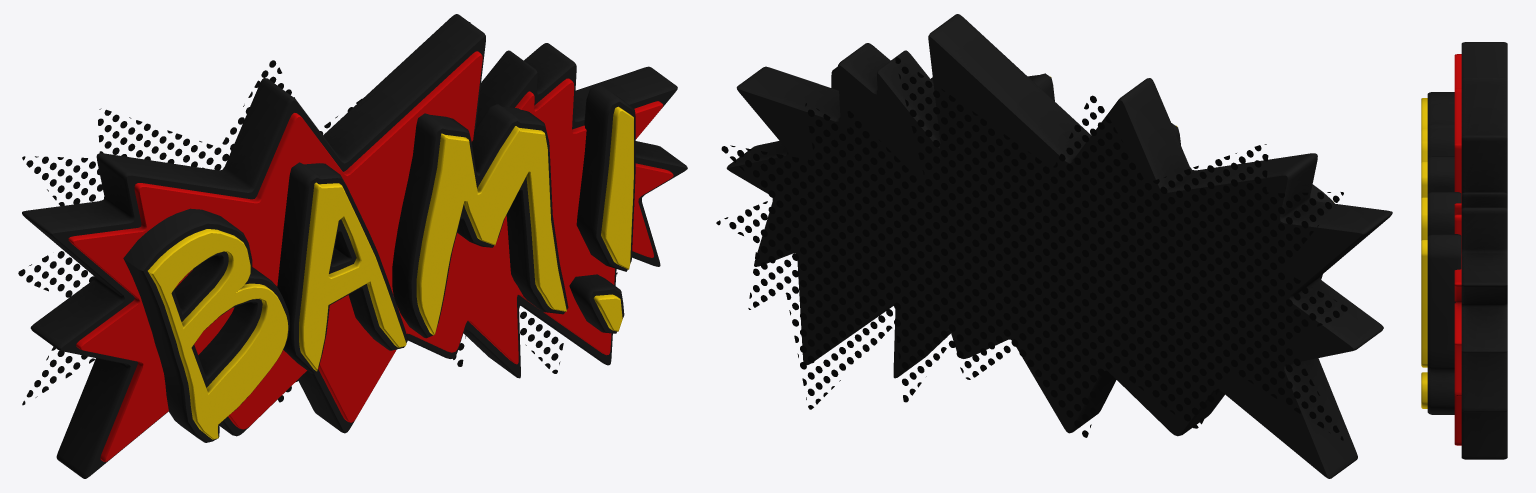
File: BAM!.glb
3 views of the same model, side by side, from view 1: azimuth 30°, elevation 25°; view 2: azimuth 150°, elevation 25°; view 3: azimuth 270°, elevation 25° (orthographic). The views are drawn at different scales.
Parts seen in each view (by area): view 1: BAM_Vinyl_01.1, Halftone_Alpha001.2; view 2: BAM_Vinyl_01.1, Halftone_Alpha001.2; view 3: BAM_Vinyl_01.1.
Part boxes in pixels (x1,y1,x2,y2): BAM_Vinyl_01.1: (22, 14, 687, 478); Halftone_Alpha001.2: (18, 22, 617, 405); BAM_Vinyl_01.1: (726, 14, 1392, 478); Halftone_Alpha001.2: (716, 57, 1347, 440); BAM_Vinyl_01.1: (1421, 42, 1507, 459).
Size of the model in its own units: 1.22 by 0.7182 by 0.2158.
Materials: 2 (2 with a texture image).
